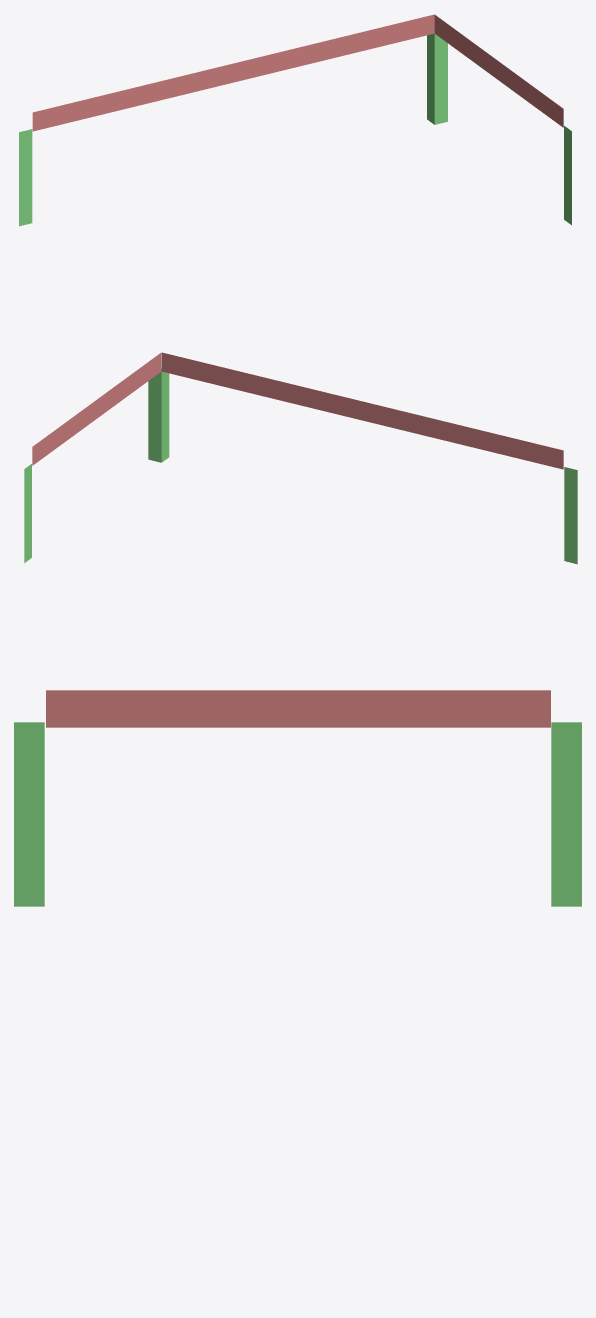
The model's file is interior_B_delf_store_31.gltf.
The picture shows the model from 3 angles, top to bottom: view 1: azimuth 30°, elevation 25°; view 2: azimuth 150°, elevation 25°; view 3: azimuth 270°, elevation 25°; orthographic projection. The views are drawn at different scales.
Visible parts, largest first — view 1: interior_B_delf_store_31; view 2: interior_B_delf_store_31; view 3: interior_B_delf_store_31.
Boxes of the visible parts, <box> form: interior_B_delf_store_31: <box>19,14,571,226</box>; interior_B_delf_store_31: <box>24,352,577,564</box>; interior_B_delf_store_31: <box>14,690,581,906</box>.
Size of the model in its own units: 7.34 by 1.81 by 4.3.
